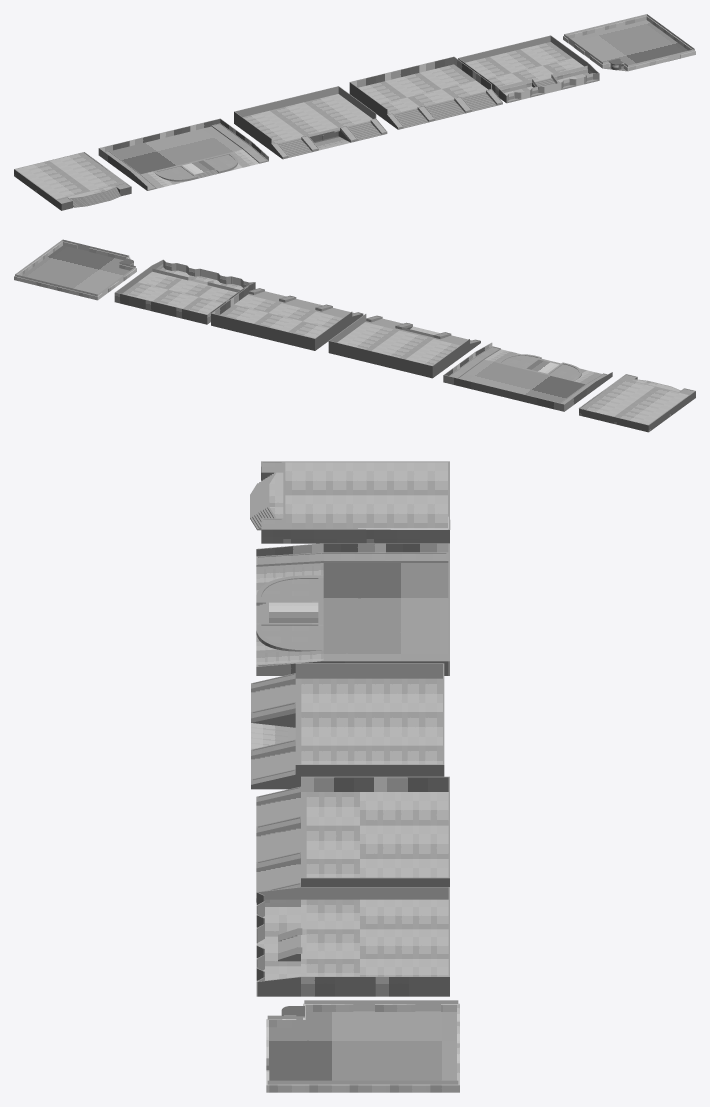
File: Final bases.fbx
3 renders of one model, top to bottom at view 1: azimuth 30°, elevation 25°; view 2: azimuth 150°, elevation 25°; view 3: azimuth 270°, elevation 25°, orthographic. The views are drawn at different scales.
Parts seen in each view (by area): view 1: bases3, bases, bases1, BASES, bases4, bases2; view 2: bases3, bases, bases1, BASES, bases4, bases2; view 3: bases3, bases, BASES, bases1, bases4, bases2.
Boxes of the visible parts, x1,y1,x2,y2 form: bases3: (98, 118, 268, 190); bases: (234, 86, 387, 159); bases1: (349, 56, 502, 129); BASES: (458, 35, 599, 103); bases4: (563, 14, 695, 71); bases2: (14, 152, 131, 210); bases3: (443, 342, 612, 411); bases: (328, 314, 480, 378); bases1: (211, 286, 363, 350); BASES: (114, 259, 255, 324); bases4: (14, 239, 136, 300); bases2: (578, 374, 695, 432); bases3: (256, 543, 449, 675); bases: (251, 663, 444, 789); BASES: (256, 887, 449, 996); bases1: (256, 776, 449, 902); bases4: (266, 1000, 459, 1092); bases2: (250, 461, 450, 543).
Size of the model in its own units: 27175 by 600 by 3905.
